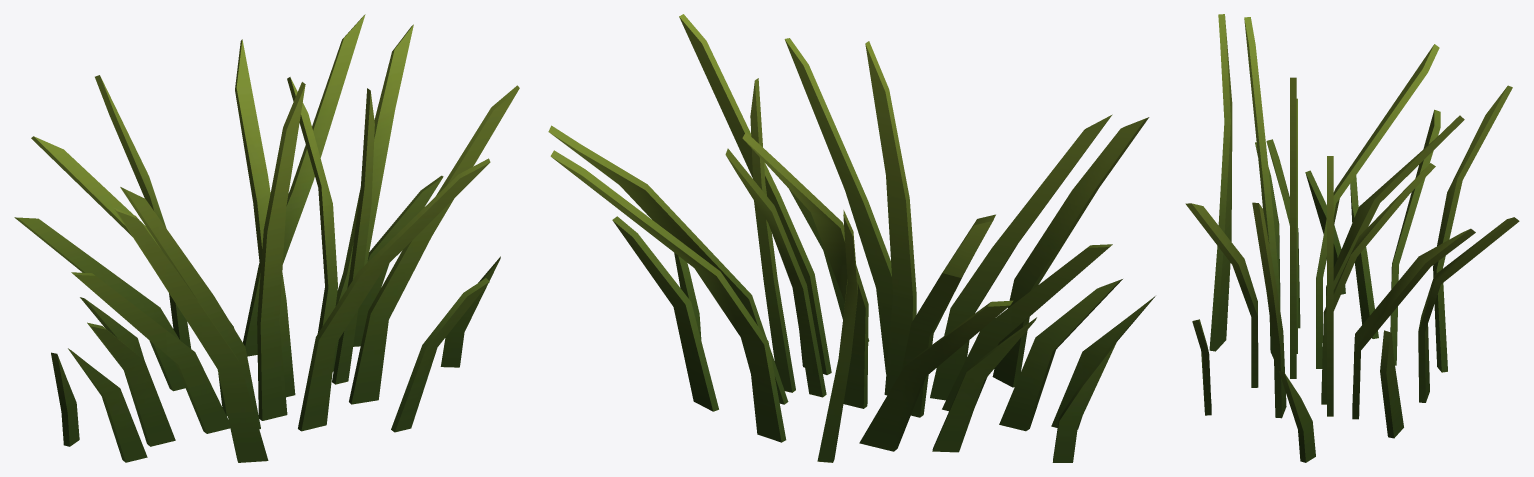
File: grass.glb
The picture shows the model from 3 angles, left to right: view 1: azimuth 30°, elevation 25°; view 2: azimuth 150°, elevation 25°; view 3: azimuth 270°, elevation 25°; orthographic projection. The views are drawn at different scales.
Parts seen in each view (by area): view 1: Grass_Large_Extruded; view 2: Grass_Large_Extruded; view 3: Grass_Large_Extruded.
Boxes of the visible parts, bbox=[...] form: Grass_Large_Extruded: bbox=[14, 14, 519, 462]; Grass_Large_Extruded: bbox=[548, 14, 1155, 462]; Grass_Large_Extruded: bbox=[1185, 14, 1519, 462].
Size of the model in its own units: 0.6702 by 0.458 by 0.4476.
1 material, 1 textured.
